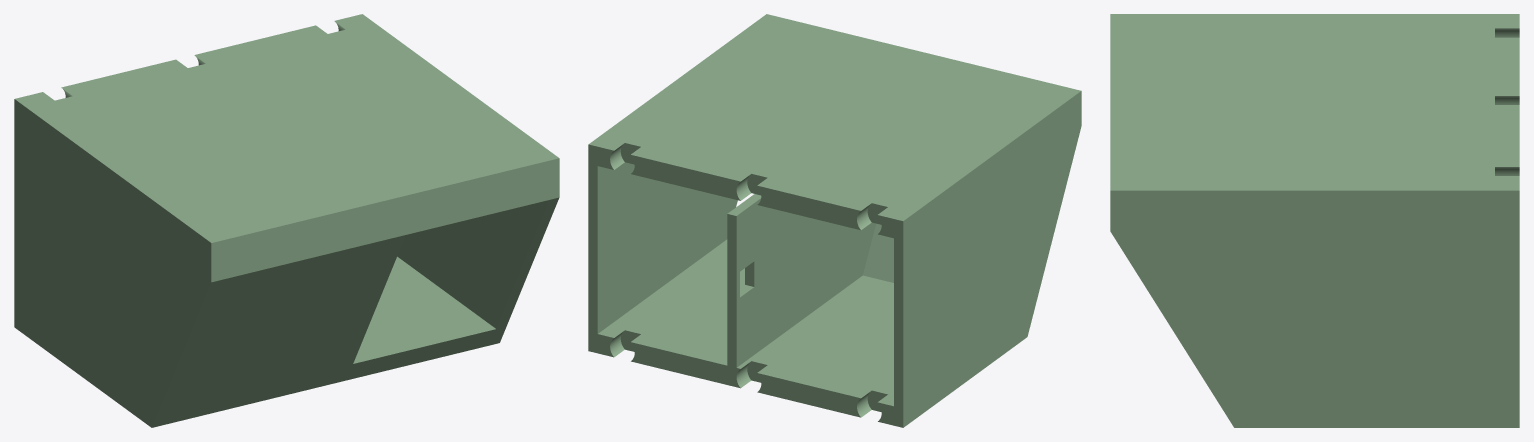
File: top.obj
3 renders of one model, left to right at view 1: azimuth 30°, elevation 25°; view 2: azimuth 150°, elevation 25°; view 3: azimuth 270°, elevation 25°, orthographic. The views are drawn at different scales.
Visible parts, largest first — view 1: Thumb-4.0_top\Solid; view 2: Thumb-4.0_top\Solid; view 3: Thumb-4.0_top\Solid.
Boxes of the visible parts, <box> form: Thumb-4.0_top\Solid: <box>14,14,559,427</box>; Thumb-4.0_top\Solid: <box>588,14,1081,427</box>; Thumb-4.0_top\Solid: <box>1110,14,1519,427</box>.
Bounding box in the file's own units: 51 × 32 × 50.
